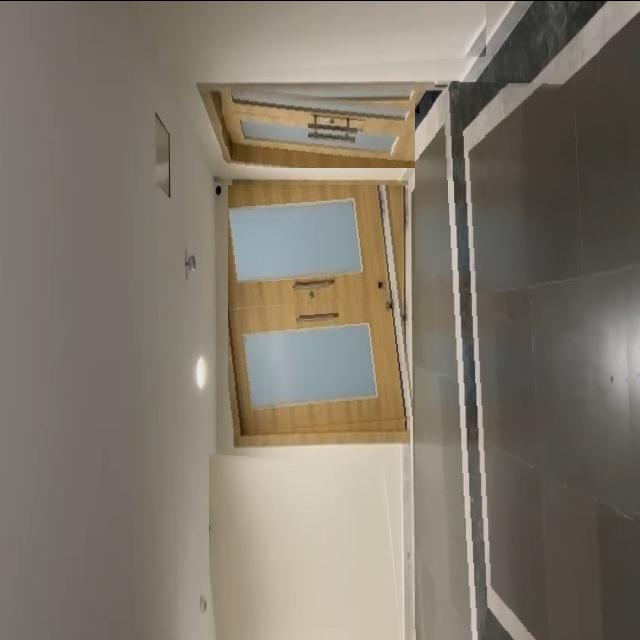door: (228, 184, 415, 432), (222, 84, 449, 167)
floor: (415, 79, 640, 640)
wall: (209, 451, 403, 640), (162, 0, 486, 77)
